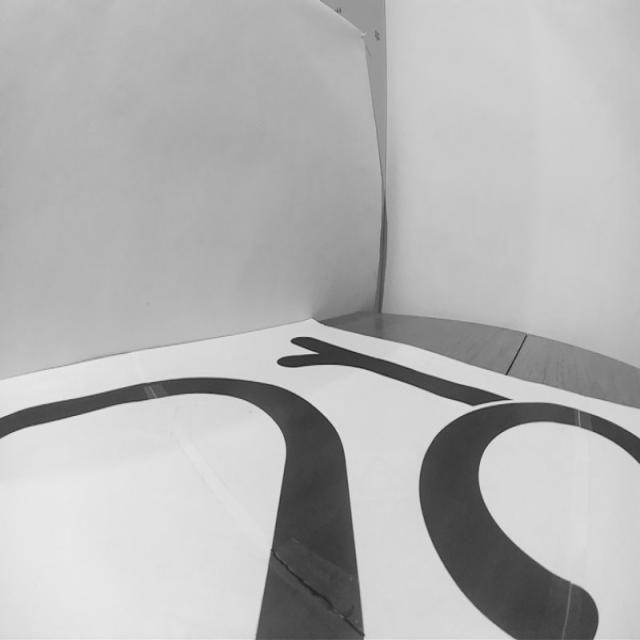lineStraight: (249, 464, 373, 640)
